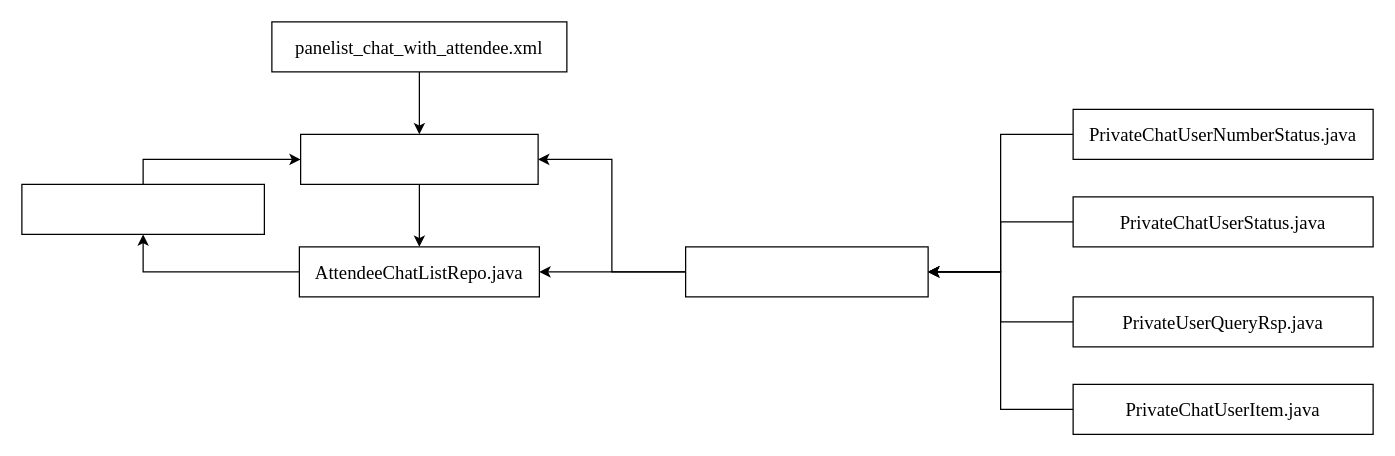
This 1395x456 diagram has some shape labels left out. The shapes that lost their labels are listed below. From the top down, each one's box as (x1, y1, x2, y2) in pixels, then its label:
(299, 133, 538, 184): AttendeeChatList.java
(21, 183, 264, 234): AttendeeChatAdapter.java
(684, 246, 928, 297): PrivateChatUserManager.java
